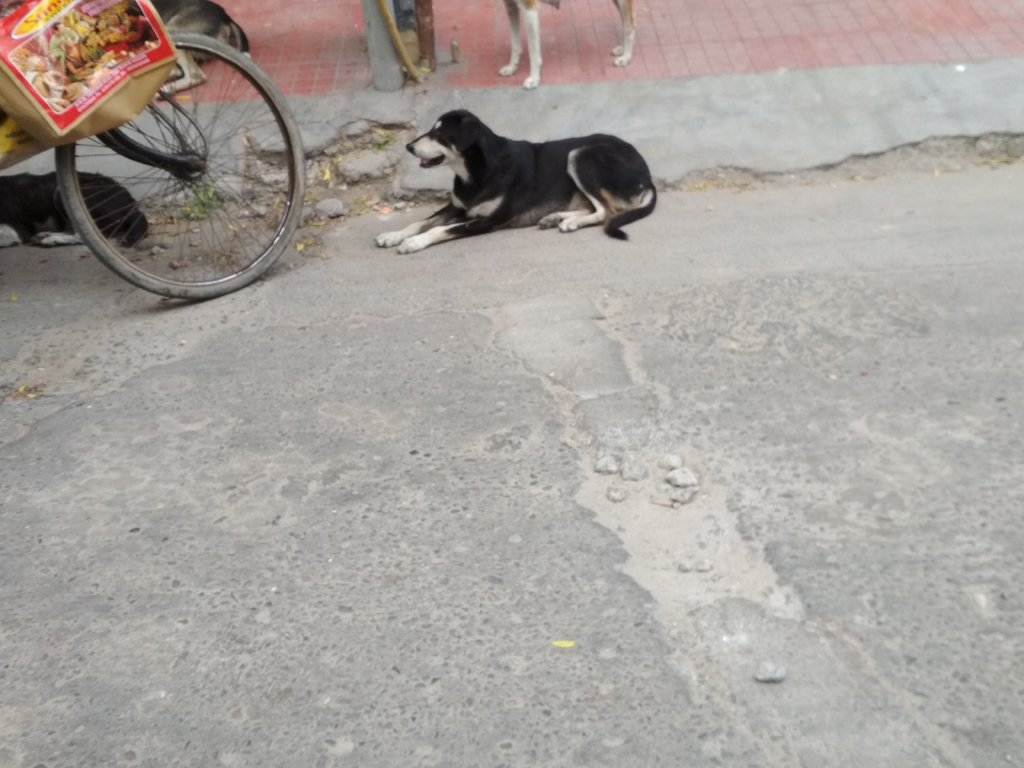dog: (373, 111, 656, 255), (1, 169, 156, 249), (145, 1, 251, 95)
